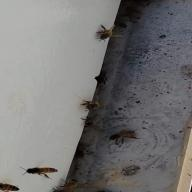Bee: (20, 162, 67, 180), (79, 94, 106, 113), (92, 22, 118, 40), (0, 178, 21, 191)
